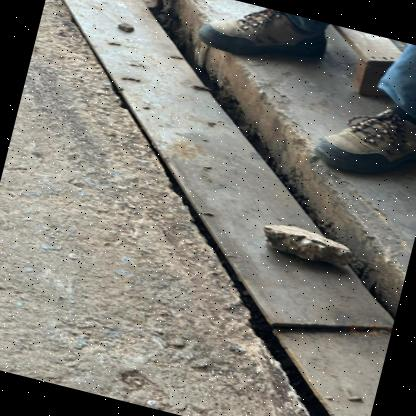bota: (296, 80, 416, 193), (178, 0, 332, 76)
